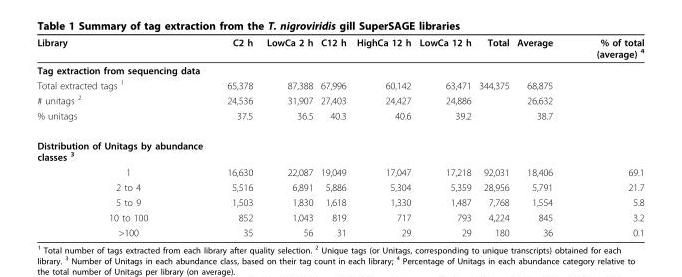table: (36, 36, 643, 237)
table column: (36, 36, 214, 237), (573, 36, 643, 237), (350, 36, 414, 237), (512, 36, 573, 237), (414, 36, 474, 237), (259, 36, 316, 237), (214, 36, 259, 237), (474, 36, 512, 237), (316, 36, 350, 237)
table column header: (36, 36, 643, 61)
table projected row header: (36, 130, 643, 164), (36, 61, 643, 76)
table row: (36, 130, 643, 164), (36, 36, 643, 61), (36, 107, 643, 130), (36, 76, 643, 92), (36, 61, 643, 76), (36, 92, 643, 107), (36, 164, 643, 179), (36, 179, 643, 194), (36, 194, 643, 209), (36, 209, 643, 224), (36, 224, 643, 237)
